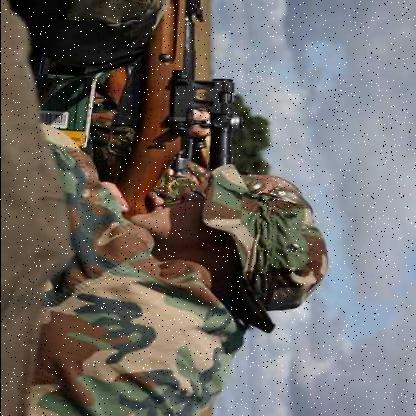rifle: (80, 0, 279, 242)
